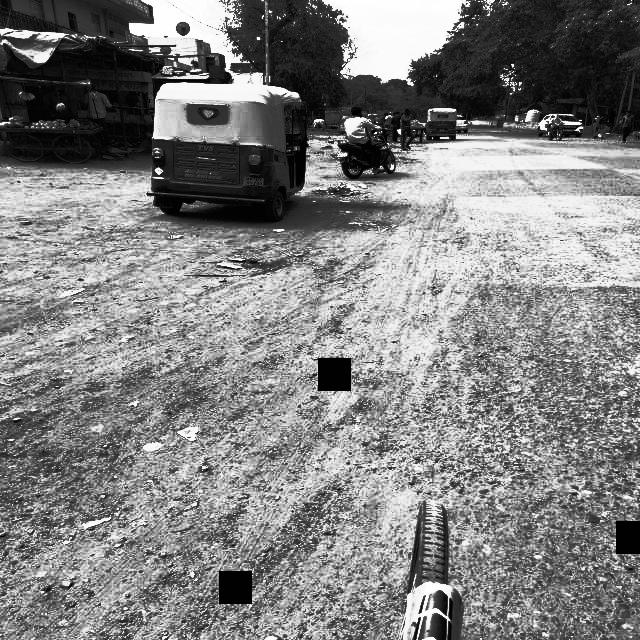Auto-Rickshaw: (151, 69, 307, 229), (423, 102, 461, 148)
